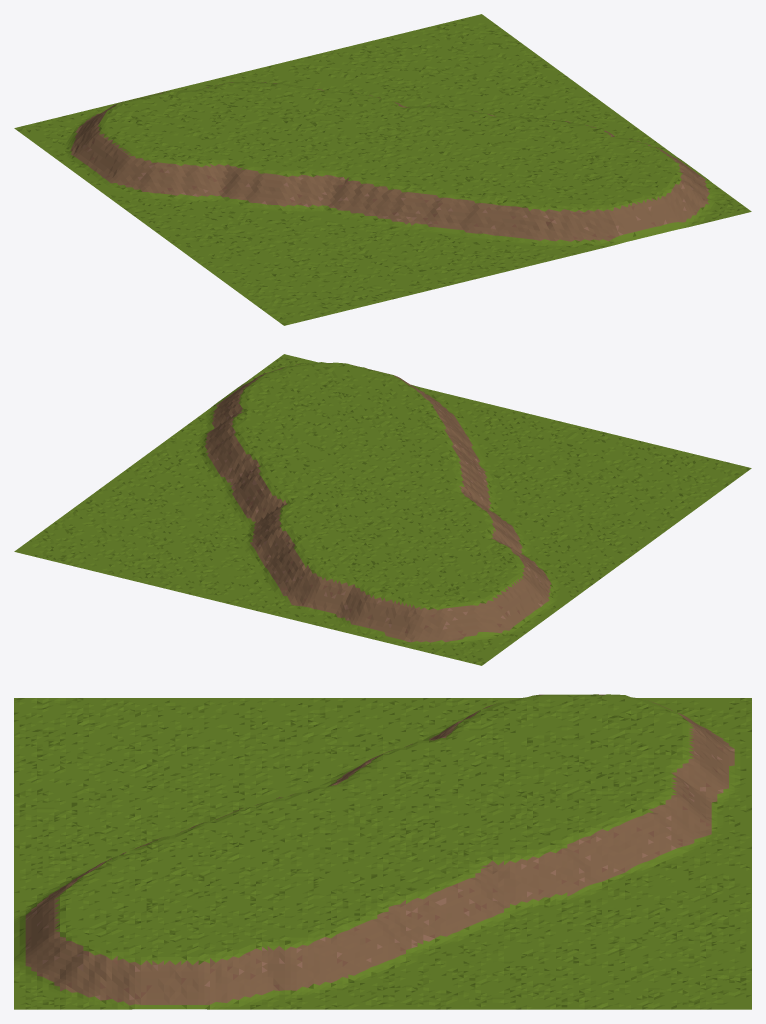
File: mesh_terrain_medium_03.fbx
The picture shows the model from 3 angles, top to bottom: view 1: azimuth 30°, elevation 25°; view 2: azimuth 150°, elevation 25°; view 3: azimuth 270°, elevation 25°; orthographic projection. The views are drawn at different scales.
Parts seen in each view (by area): view 1: mesh_terrain_medium_03; view 2: mesh_terrain_medium_03; view 3: mesh_terrain_medium_03.
Part boxes in pixels (left/top/right/bottom): mesh_terrain_medium_03: left=14, top=14, right=751, bottom=325; mesh_terrain_medium_03: left=14, top=354, right=751, bottom=665; mesh_terrain_medium_03: left=14, top=694, right=751, bottom=1009.
Size of the model in its own units: 50 by 2.41 by 50.
